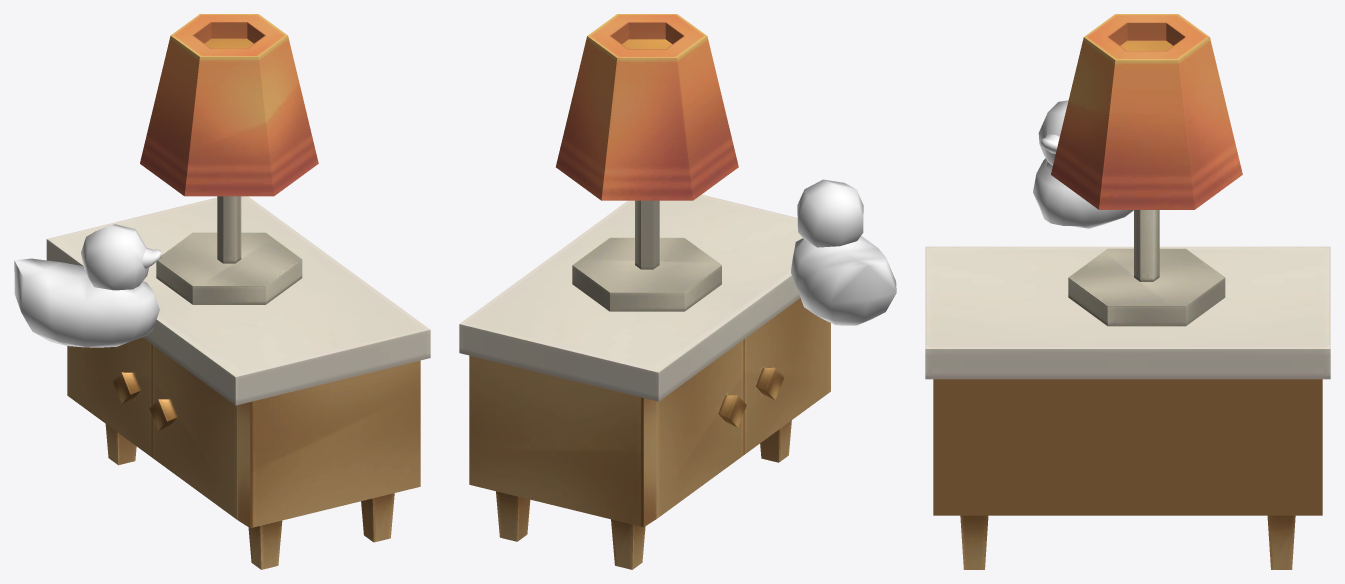
File: BedTumb 4.fbx
3 renders of one model, left to right at view 1: azimuth 30°, elevation 25°; view 2: azimuth 150°, elevation 25°; view 3: azimuth 270°, elevation 25°, orthographic. The views are drawn at different scales.
Parts seen in each view (by area): view 1: BedTumb 4, BathDuck; view 2: BedTumb 4, BathDuck; view 3: BedTumb 4, BathDuck.
Part boxes in pixels (x1,y1,x2,y2): BedTumb 4: [46, 14, 430, 569]; BathDuck: [14, 224, 161, 347]; BedTumb 4: [459, 14, 830, 569]; BathDuck: [791, 179, 896, 325]; BedTumb 4: [925, 14, 1330, 569]; BathDuck: [1033, 100, 1133, 228].
Size of the model in its own units: 0.9866 by 1.34 by 0.9964.
Materials: 2 (1 with a texture image).
